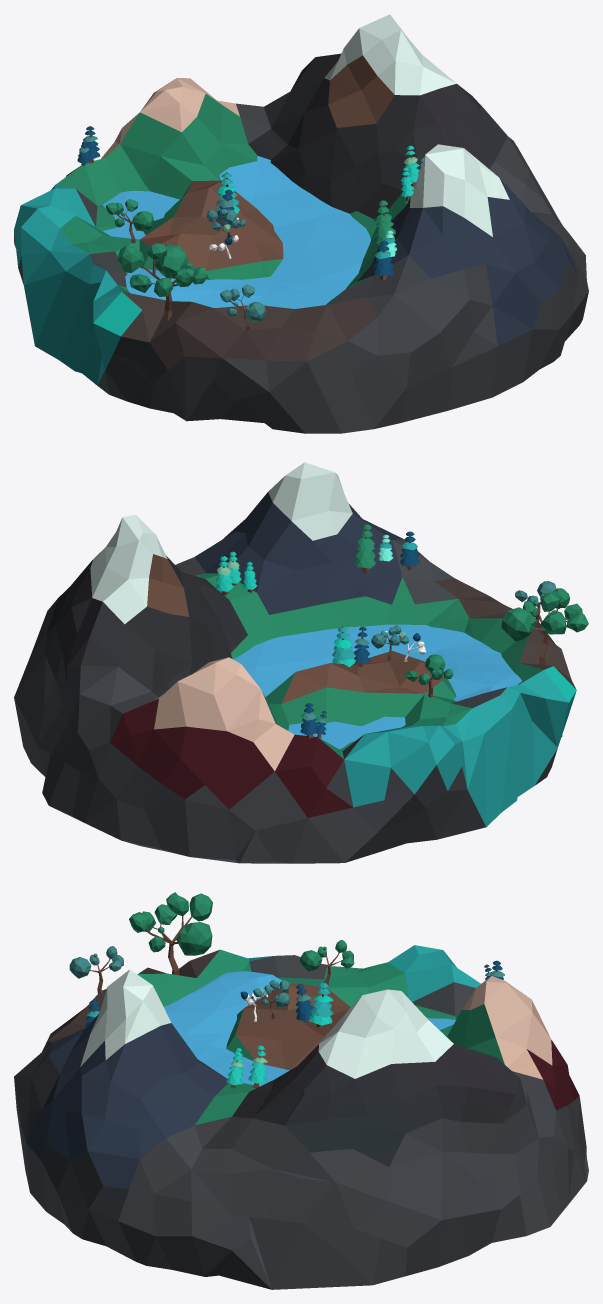
File: Mountain.fbx
3 renders of one model, top to bottom at view 1: azimuth 30°, elevation 25°; view 2: azimuth 150°, elevation 25°; view 3: azimuth 270°, elevation 25°, orthographic. The views are drawn at different scales.
Parts seen in each view (by area): view 1: Icosphere.153; view 2: Icosphere.153; view 3: Icosphere.153.
Boxes of the visible parts, box(x1,y1,x2,y2) form: Icosphere.153: box(14, 14, 588, 433); Icosphere.153: box(14, 462, 588, 863); Icosphere.153: box(14, 892, 588, 1289).
Bounding box in the file's own units: 1889 × 853 × 1855.
1 material, 1 textured.
